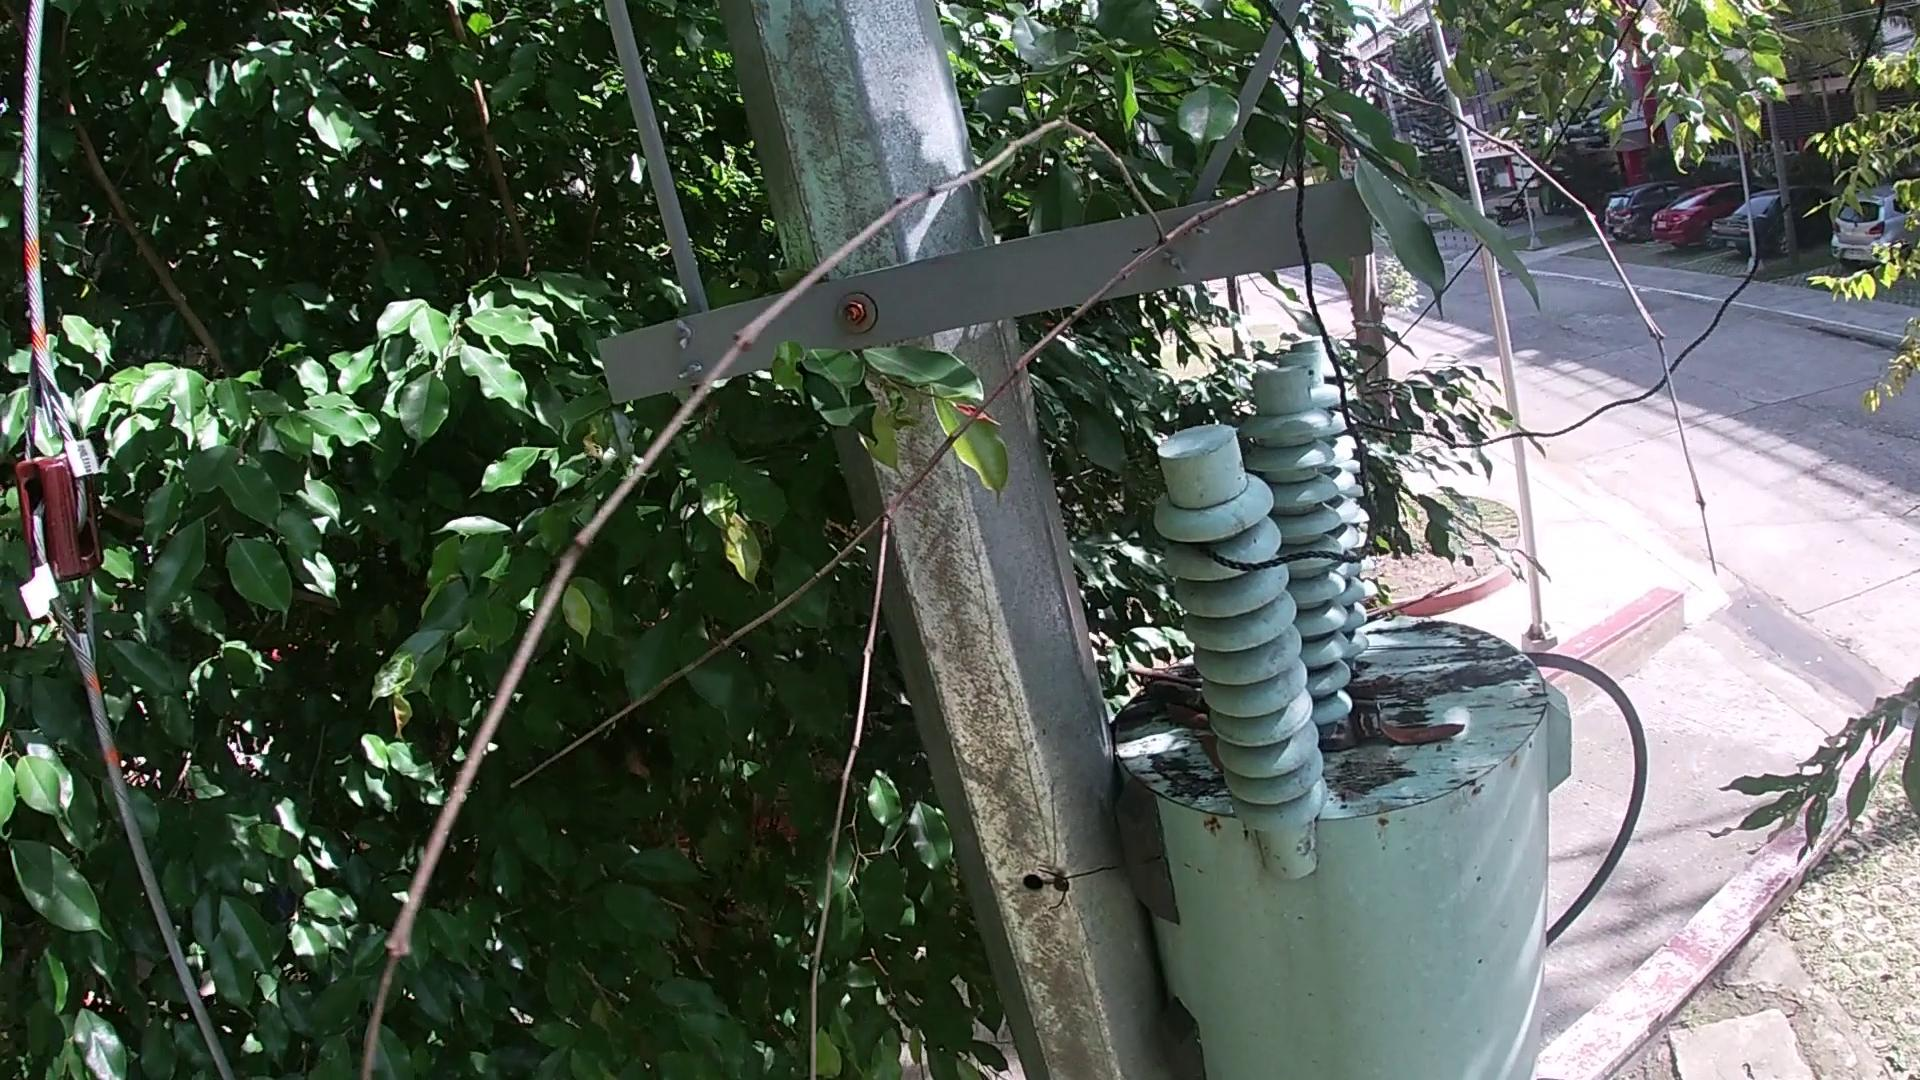leaf: (1369, 695, 1473, 754), (1156, 698, 1215, 732), (1185, 731, 1226, 767)
tree branch: (351, 71, 1726, 1077), (1362, 583, 1458, 632), (1120, 659, 1207, 712)
